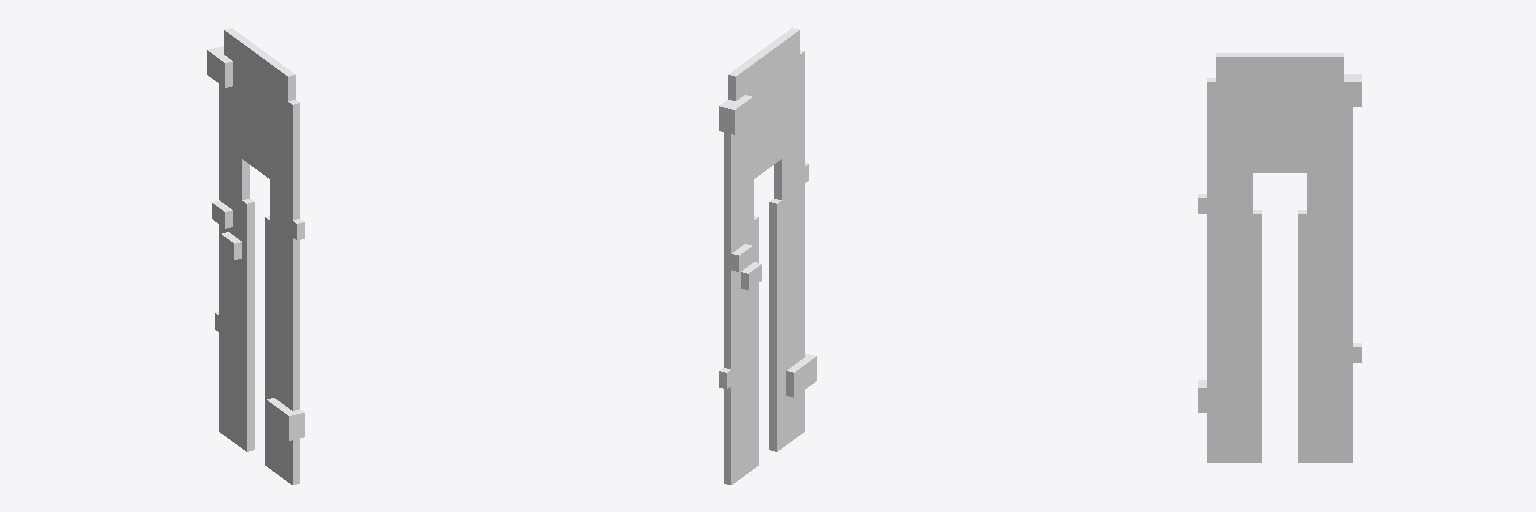
File: SmallBuilding04-6.obj
The picture shows the model from 3 angles: view 1: azimuth 30°, elevation 25°; view 2: azimuth 150°, elevation 25°; view 3: azimuth 270°, elevation 25°; orthographic projection.
Parts seen in each view (by area): view 1: object 1; view 2: object 1; view 3: object 1.
Part boxes in pixels (x1,y1,x2,y2): object 1: (207,28,304,484); object 1: (719,28,816,484); object 1: (1198,53,1361,462).
Bounding box in the file's own units: 0.2 × 4.9 × 1.8.